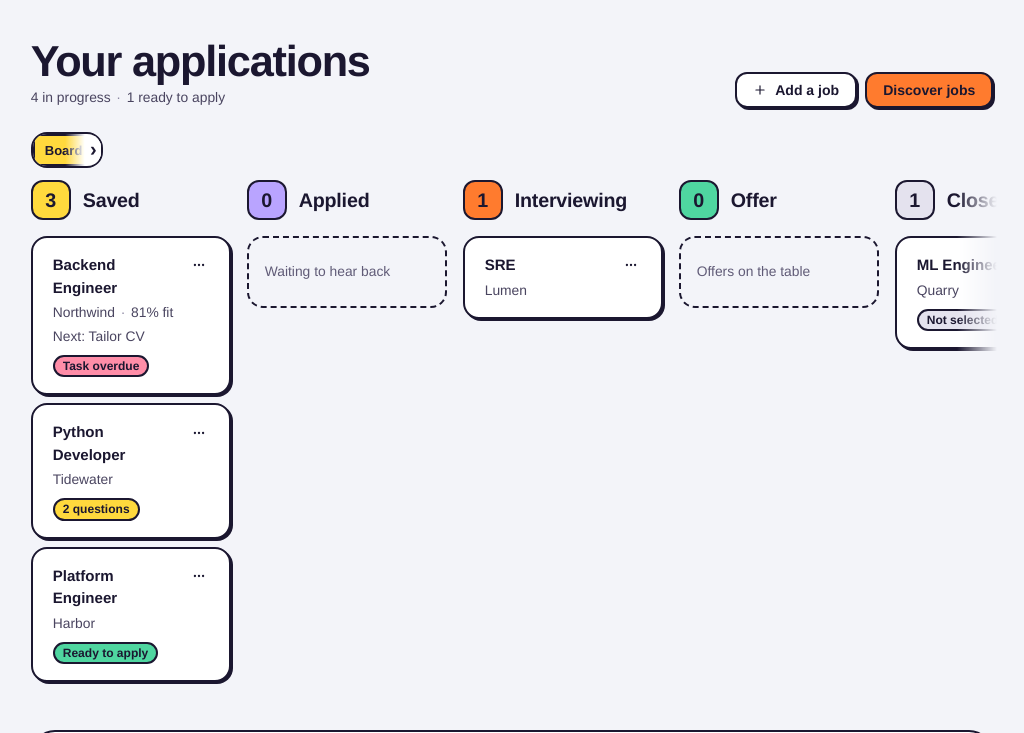
ApplicationsPage › says where a moved card went
The image size is (1024, 733).
Press Enter in the button named "Move Backend Engineer", box [181,247,217,283]
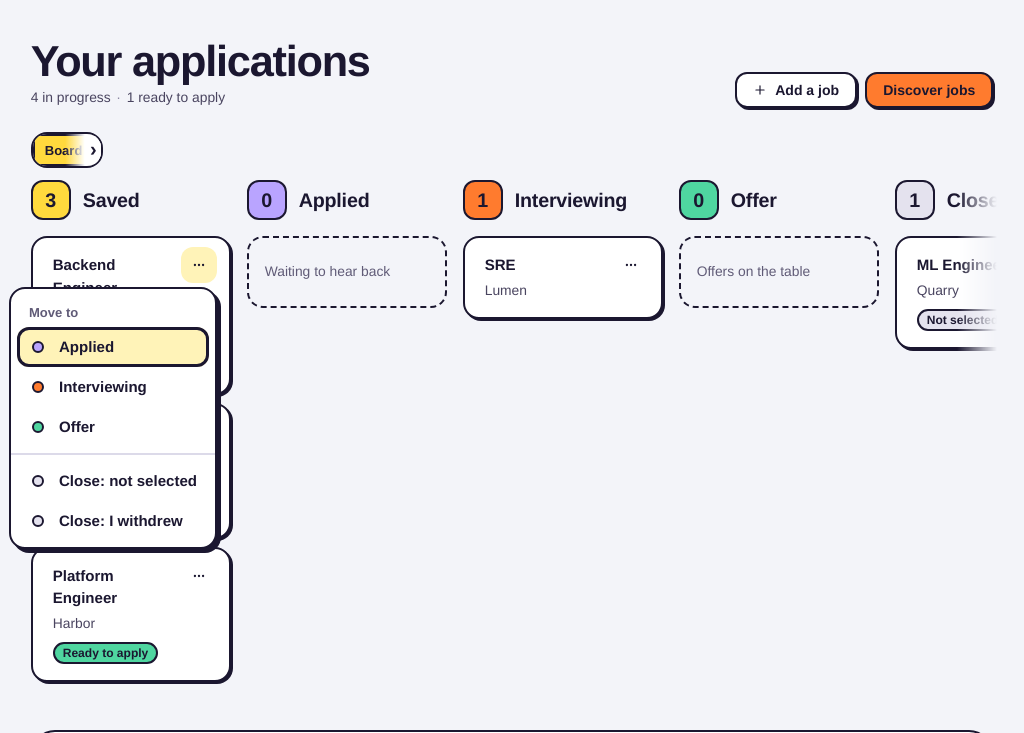
Click the menu item "Interviewing" at coordinates (89, 387), box [32,377,147,397]
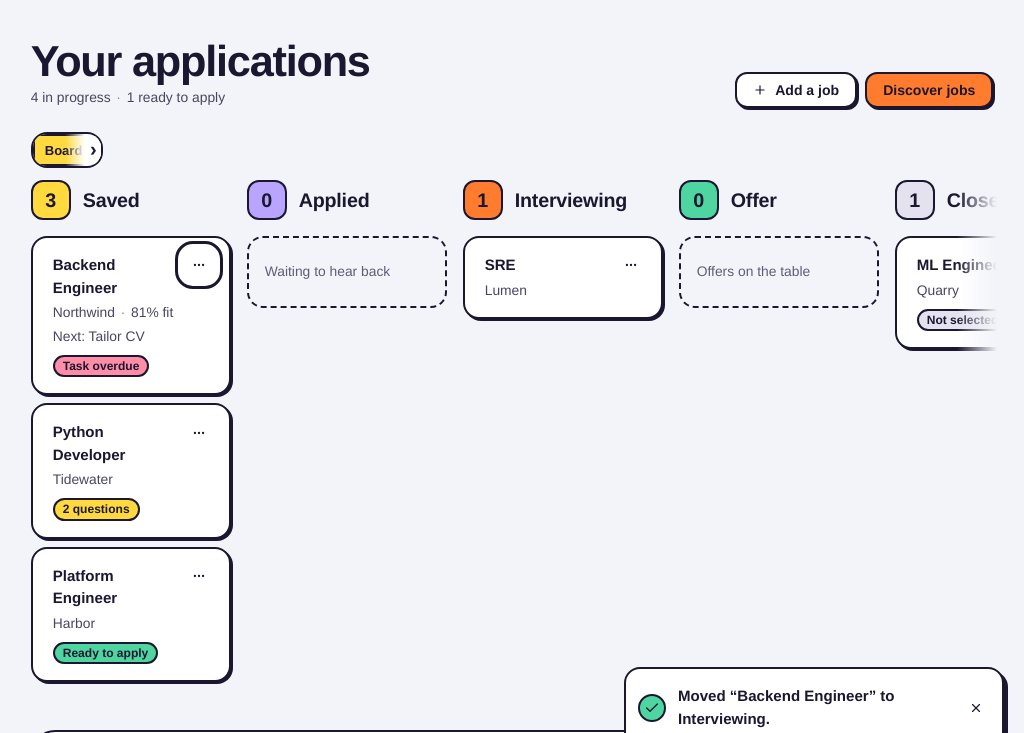
Result: the text "Moved “Backend Engineer” to Interviewing." is shown at [678,686,895,728]
